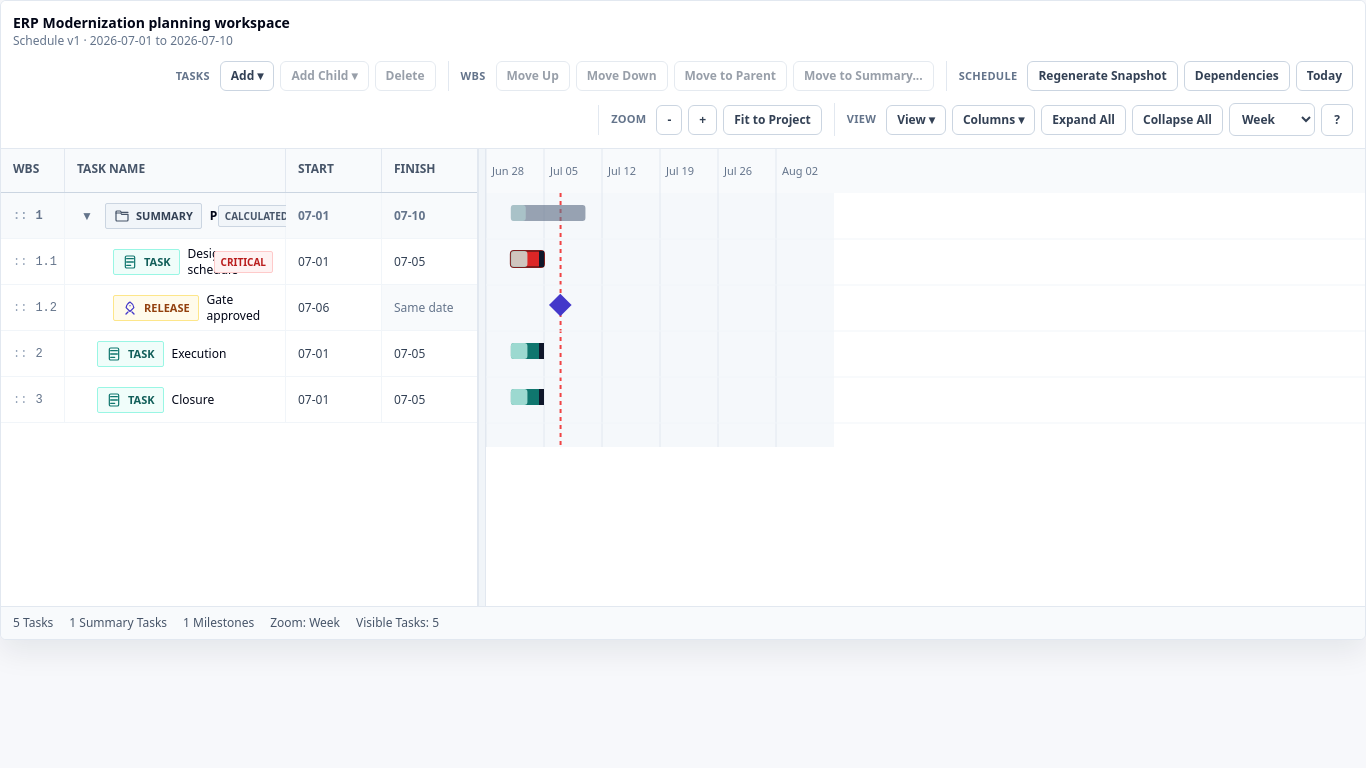
Test: PlanningWorkspace › adds a top-level task at the end of the top-level task list
This screenshot has width=1366, height=768.
Click the button "Add ▾" at (247, 76), box [220, 61, 274, 91]
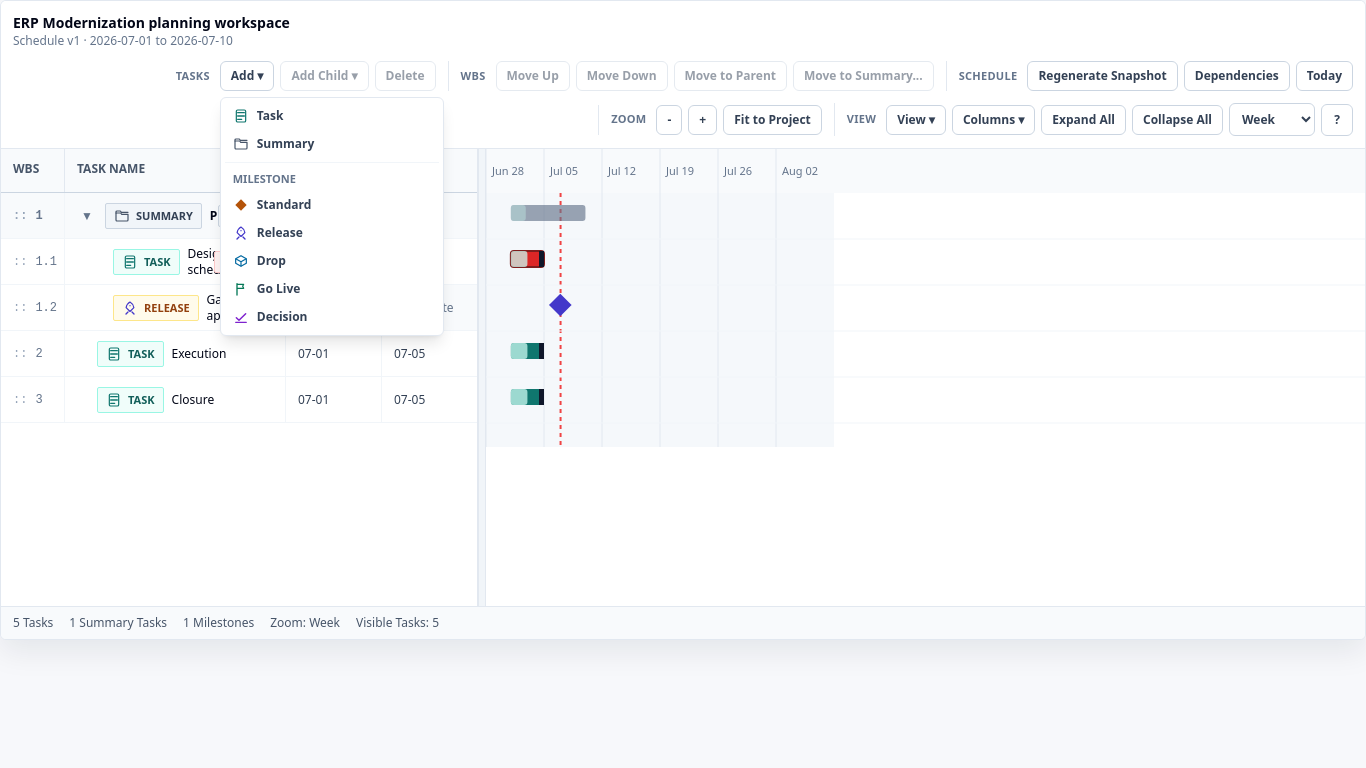
Click the menu item "Task" at (332, 116), box [225, 102, 439, 130]
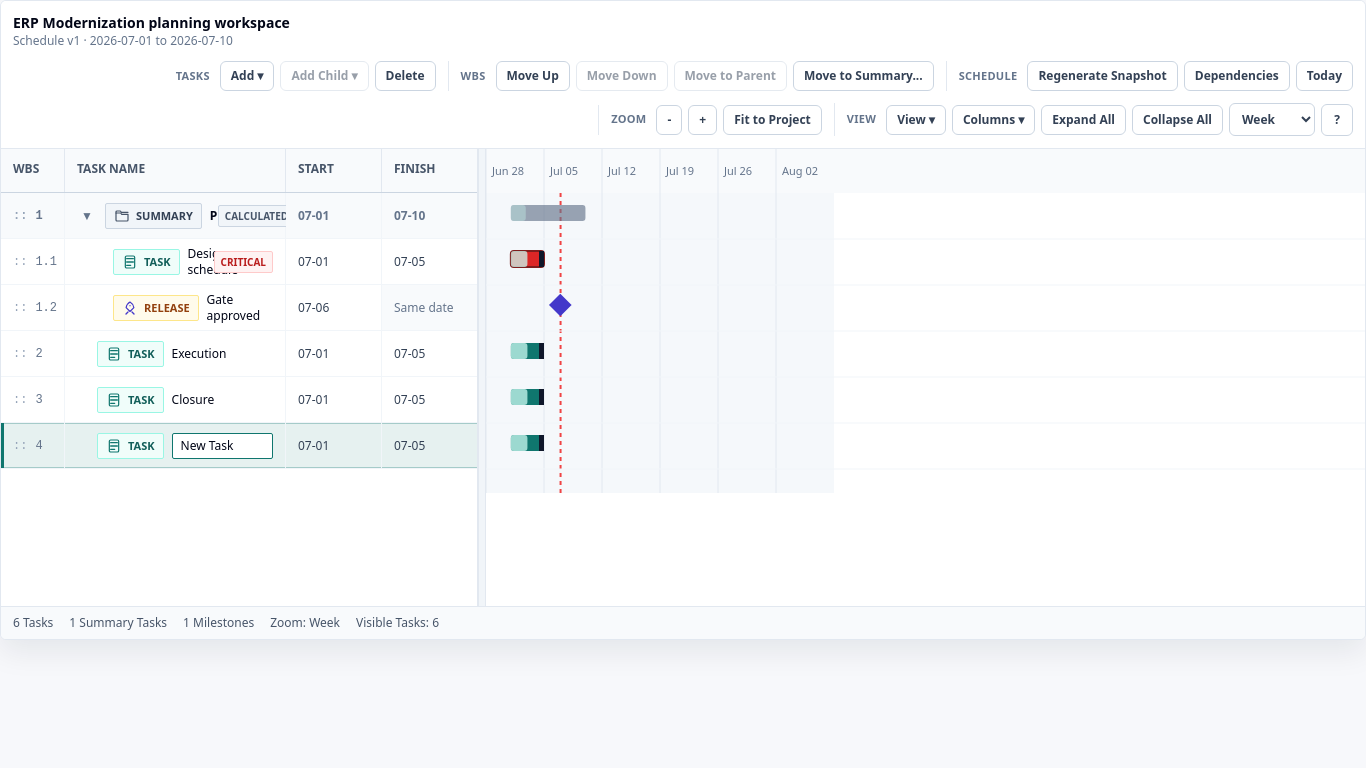
Check: the row named "4 New Task" is shown, box [1, 423, 478, 469]
